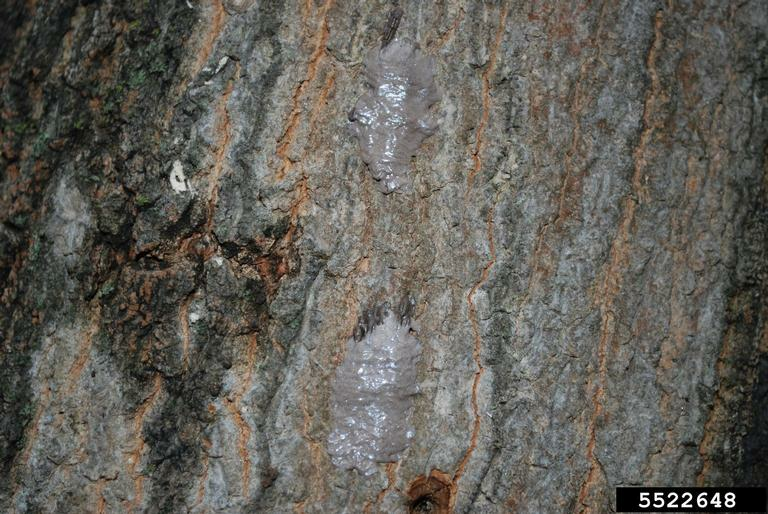egg masses: (321, 262, 438, 472), (335, 5, 443, 199)
